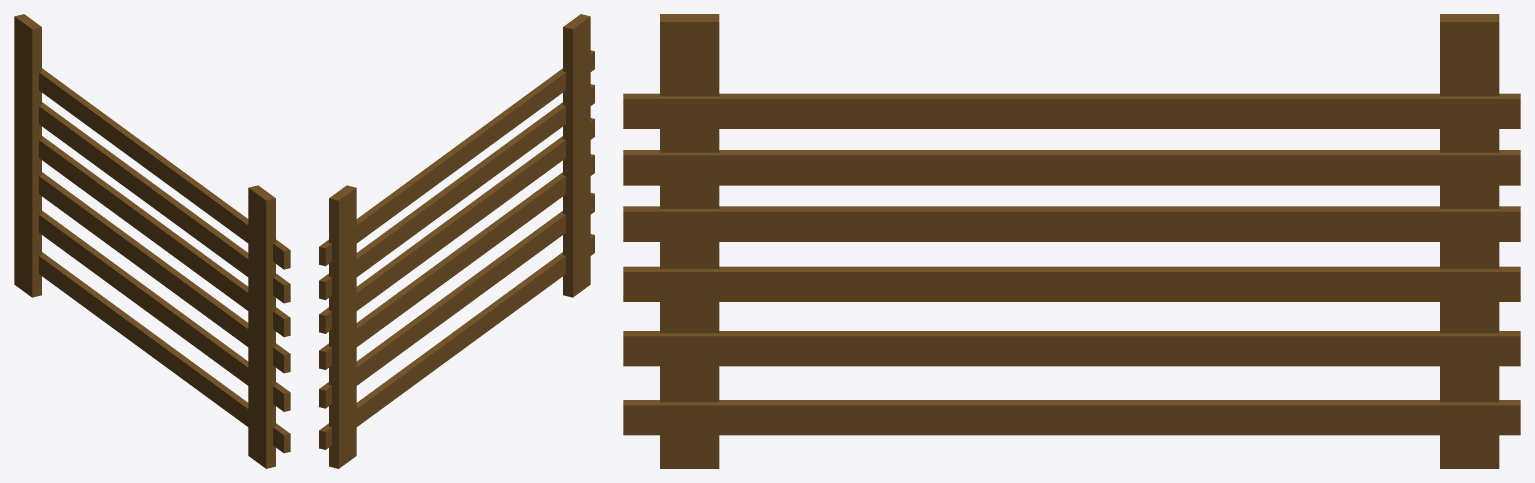
Rendered from Забор.fbx.
3 views of the same model, side by side, from view 1: azimuth 30°, elevation 25°; view 2: azimuth 150°, elevation 25°; view 3: azimuth 270°, elevation 25° (orthographic). The views are drawn at different scales.
Visible parts, largest first — view 1: Cube; view 2: Cube; view 3: Cube.
Part boxes in pixels (<box>): Cube: <box>14,14,290,468</box>; Cube: <box>319,14,594,468</box>; Cube: <box>623,14,1520,468</box>.
Size of the model in its own units: 33.6 by 647 by 1177.
